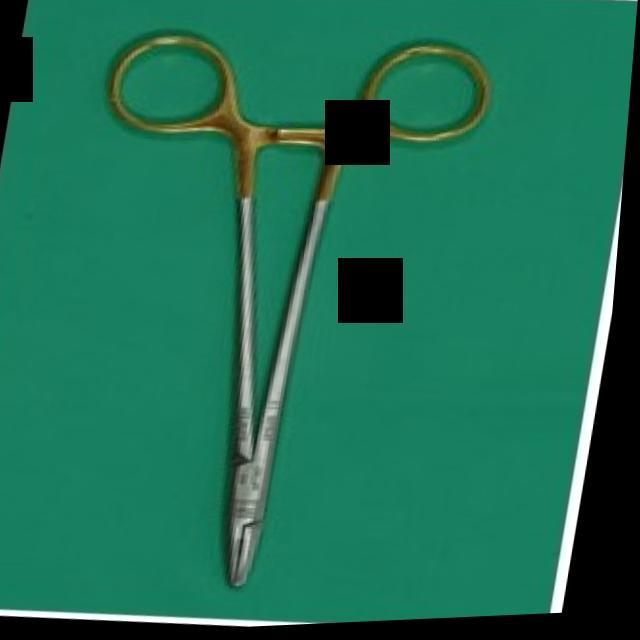Needle Holder: (18, 11, 512, 622)
